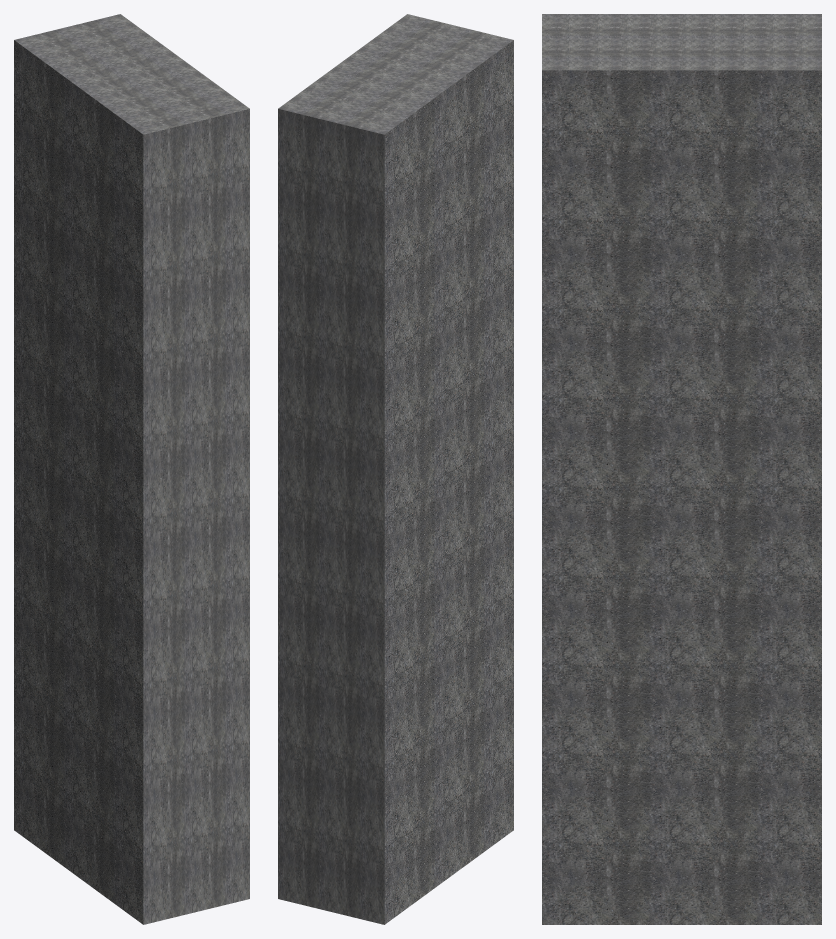
File: DoorV1.FBX
3 renders of one model, left to right at view 1: azimuth 30°, elevation 25°; view 2: azimuth 150°, elevation 25°; view 3: azimuth 270°, elevation 25°, orthographic. The views are drawn at different scales.
Parts seen in each view (by area): view 1: Box1614; view 2: Box1614; view 3: Box1614.
Part boxes in pixels (box(x1,y1,x2,y2)): Box1614: box(14, 14, 249, 924); Box1614: box(278, 14, 513, 924); Box1614: box(542, 14, 821, 924).
Bounding box in the file's own units: 5 × 35.46 × 10.53.
1 material, 1 textured.
